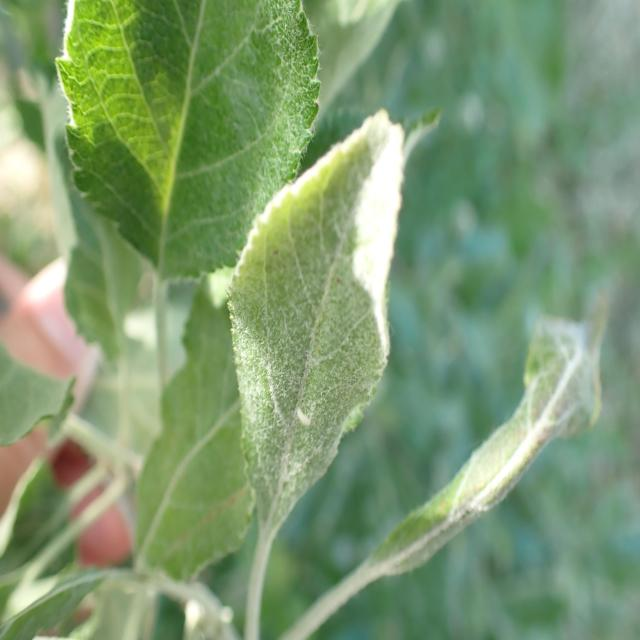Powdery_mildew: (261, 288, 606, 634), (232, 110, 421, 640), (59, 0, 324, 320)
